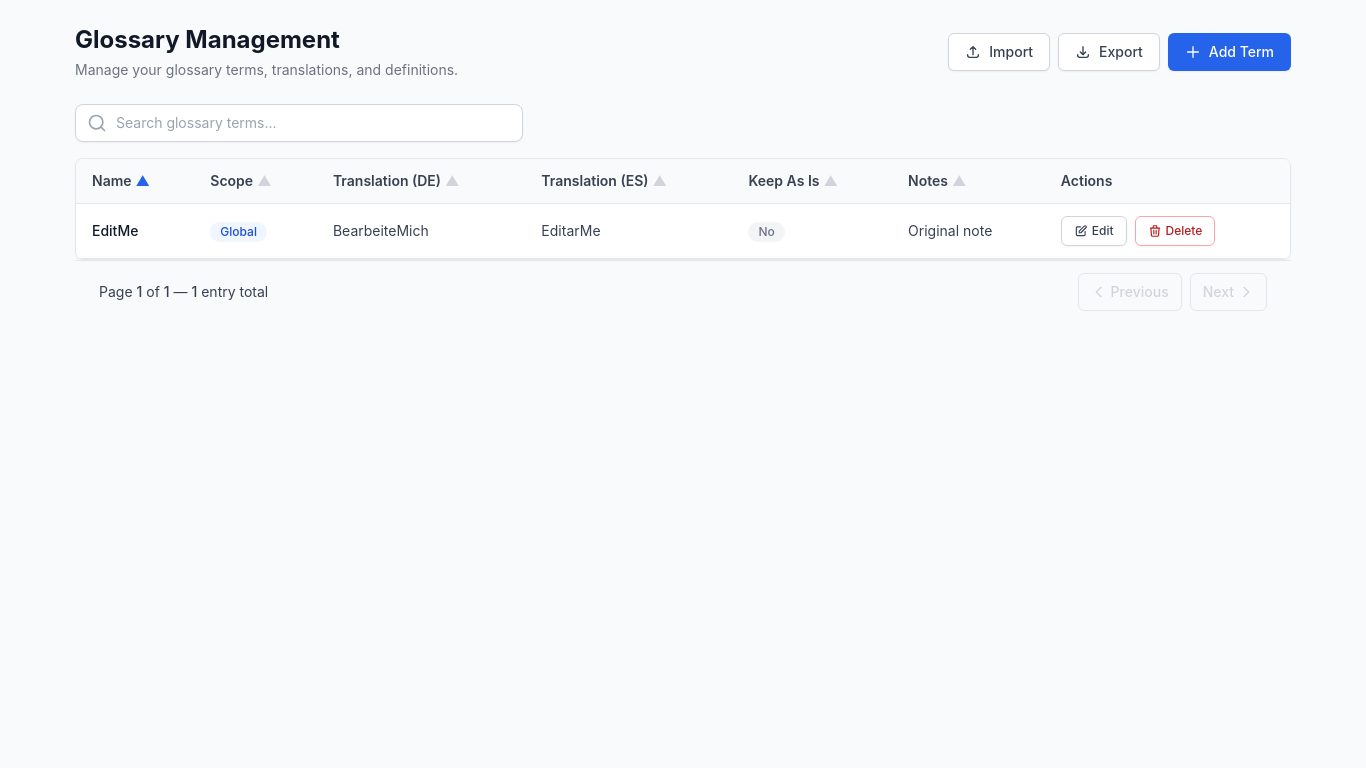
Scenario: App › editing a term › updates a term and displays the updated data
Expected: the text "EditMe" is shown, 76,204 -> 194,258
Click the button with aria-label "edit term editme". click: (1094, 231)
box: 1061,216 -> 1127,246
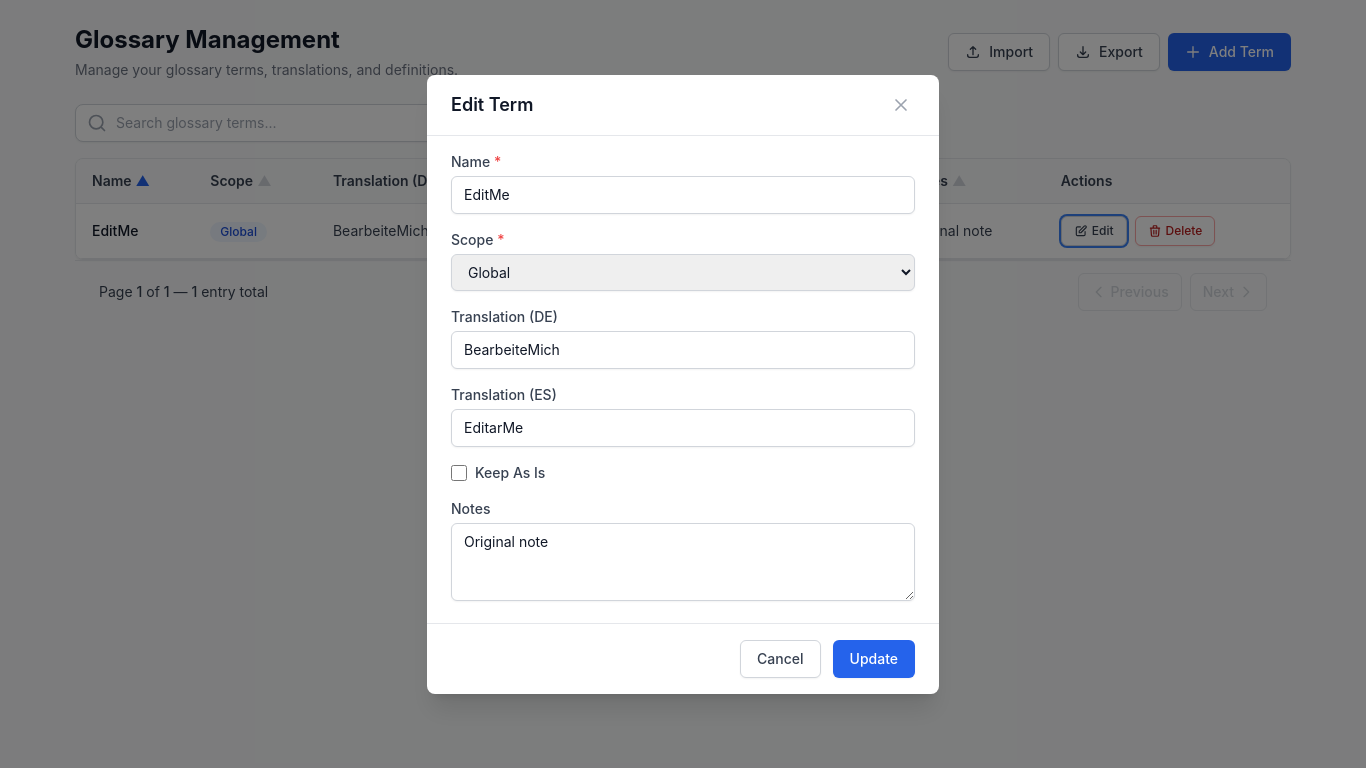
Now the dialog is shown
Replace the text in the field labelled "Name *" with "UpdatedTerm". click: (683, 194)
box: 451,176 -> 915,214
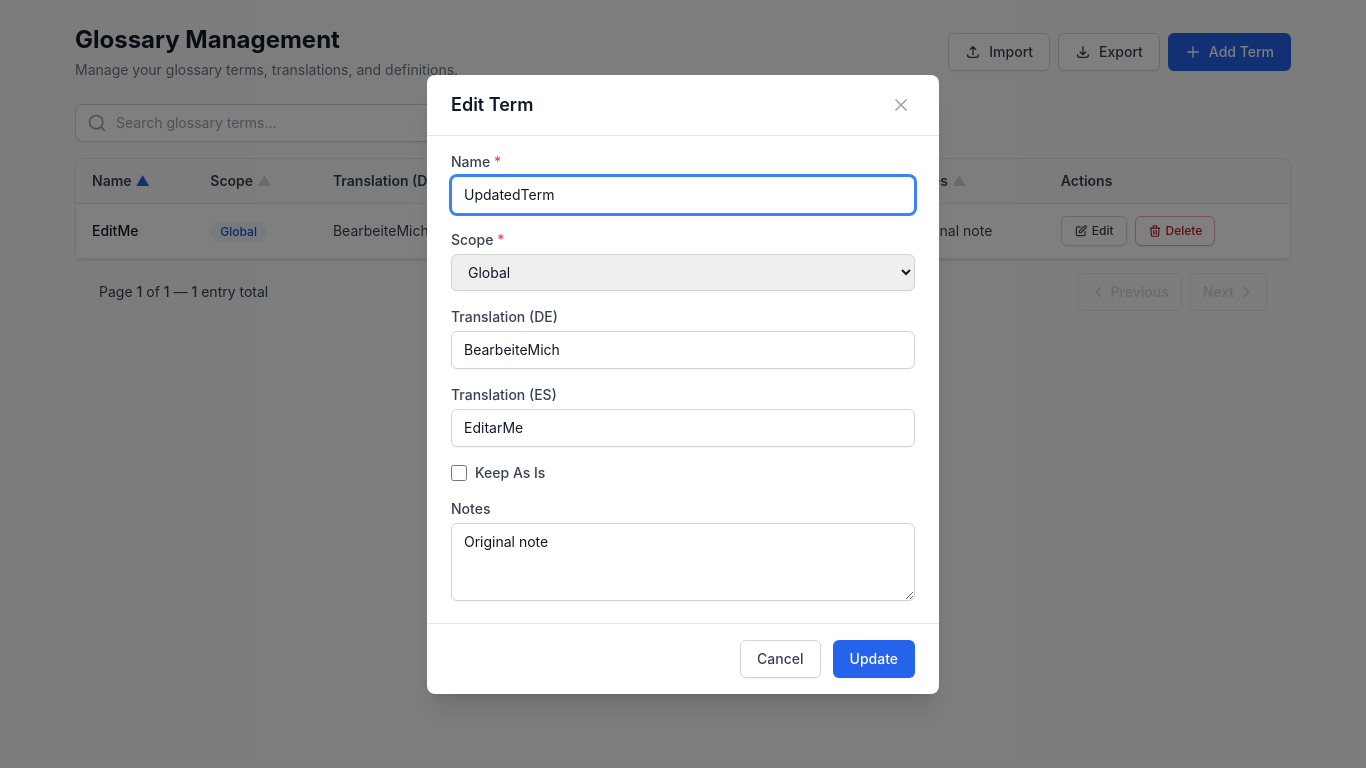
Click the button "Update". click: (874, 658)
box: 832,640 -> 915,678
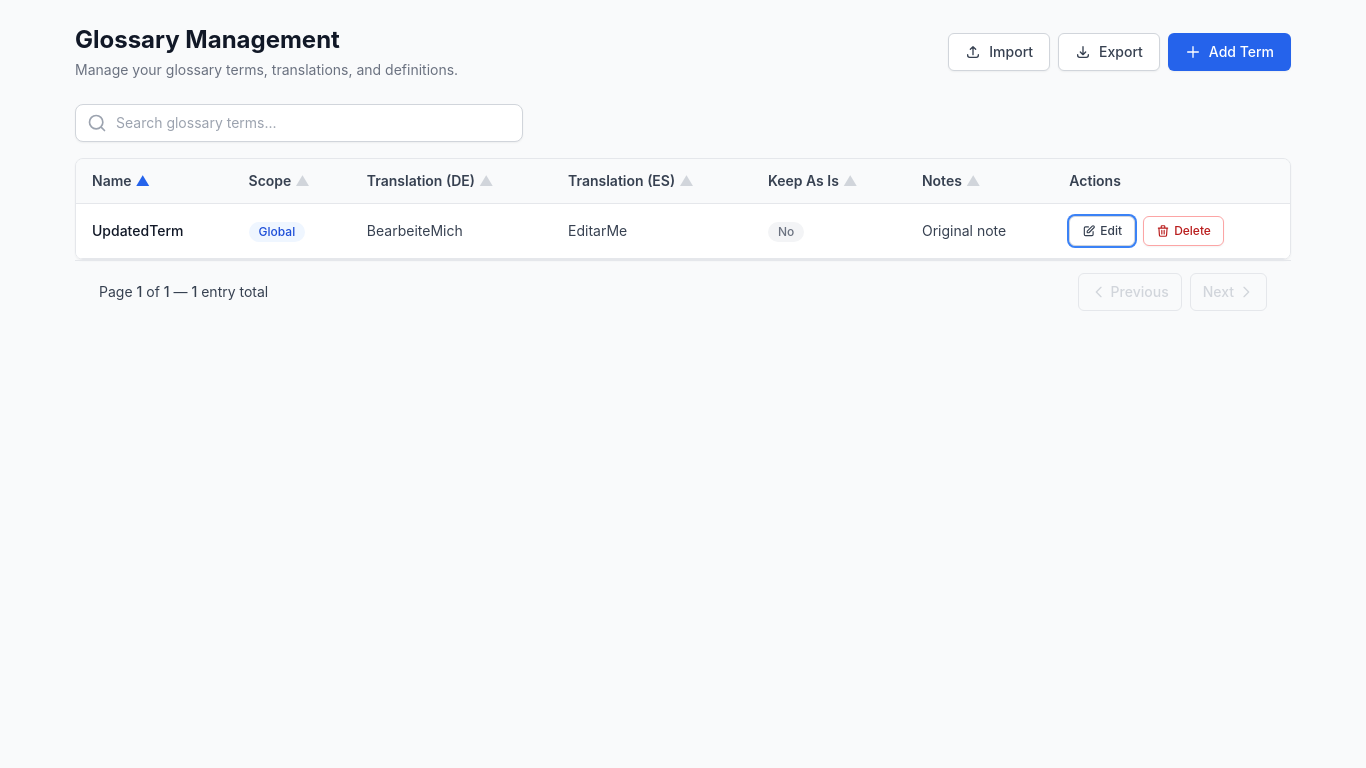
Now the dialog is gone
Now the text "UpdatedTerm" is shown, box 76,204 -> 232,258
Now the text "EditMe" is gone
